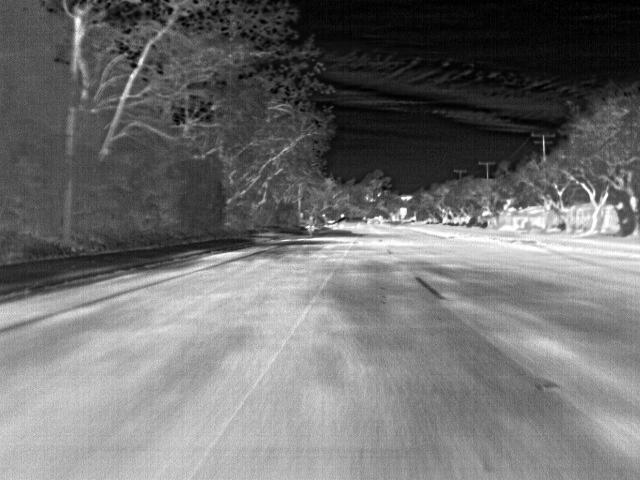person: (304, 214, 319, 238)
